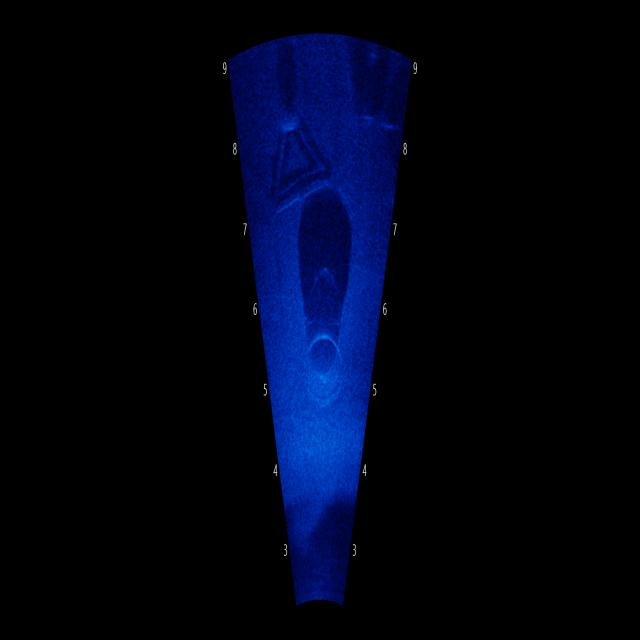circle: (297, 320, 349, 434)
triangle: (260, 84, 339, 237)
